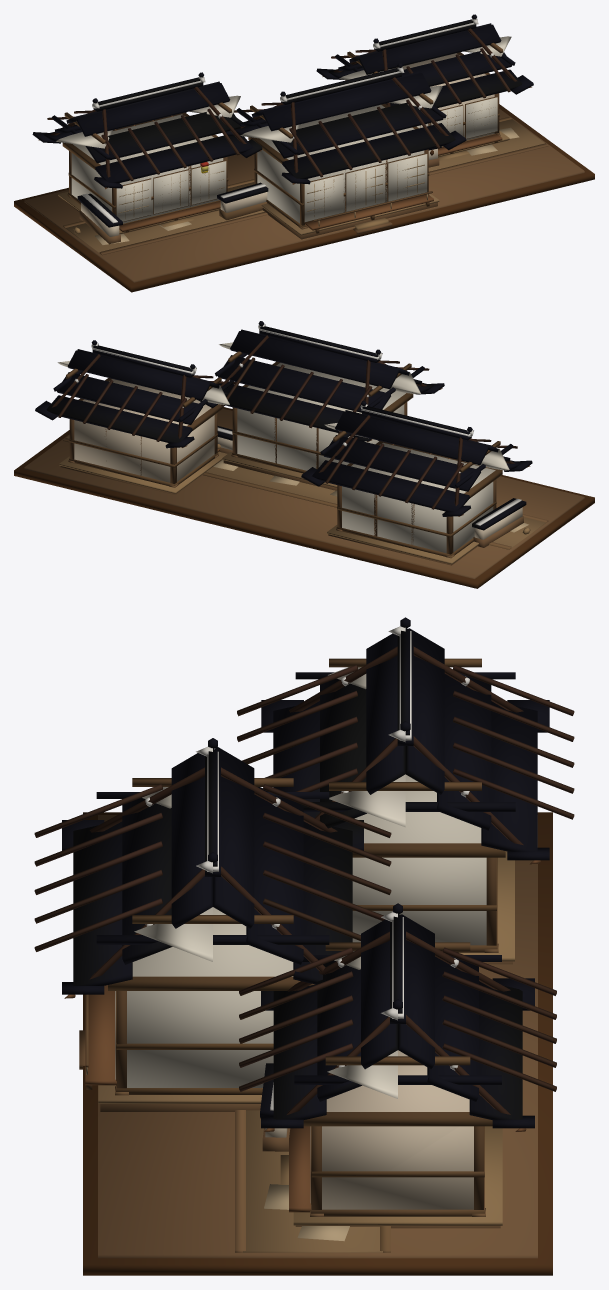
The model's file is hanok_row.glb.
3 renders of one model, top to bottom at view 1: azimuth 30°, elevation 25°; view 2: azimuth 150°, elevation 25°; view 3: azimuth 270°, elevation 25°, orthographic. The views are drawn at different scales.
Parts seen in each view (by area): view 1: hanok_row; view 2: hanok_row; view 3: hanok_row.
Boxes of the visible parts, x1,y1,x2,y2 form: hanok_row: (14, 14, 594, 292); hanok_row: (14, 321, 594, 588); hanok_row: (34, 617, 574, 1275).
Bounding box in the file's own units: 21.4 × 5.82 × 10.79.
